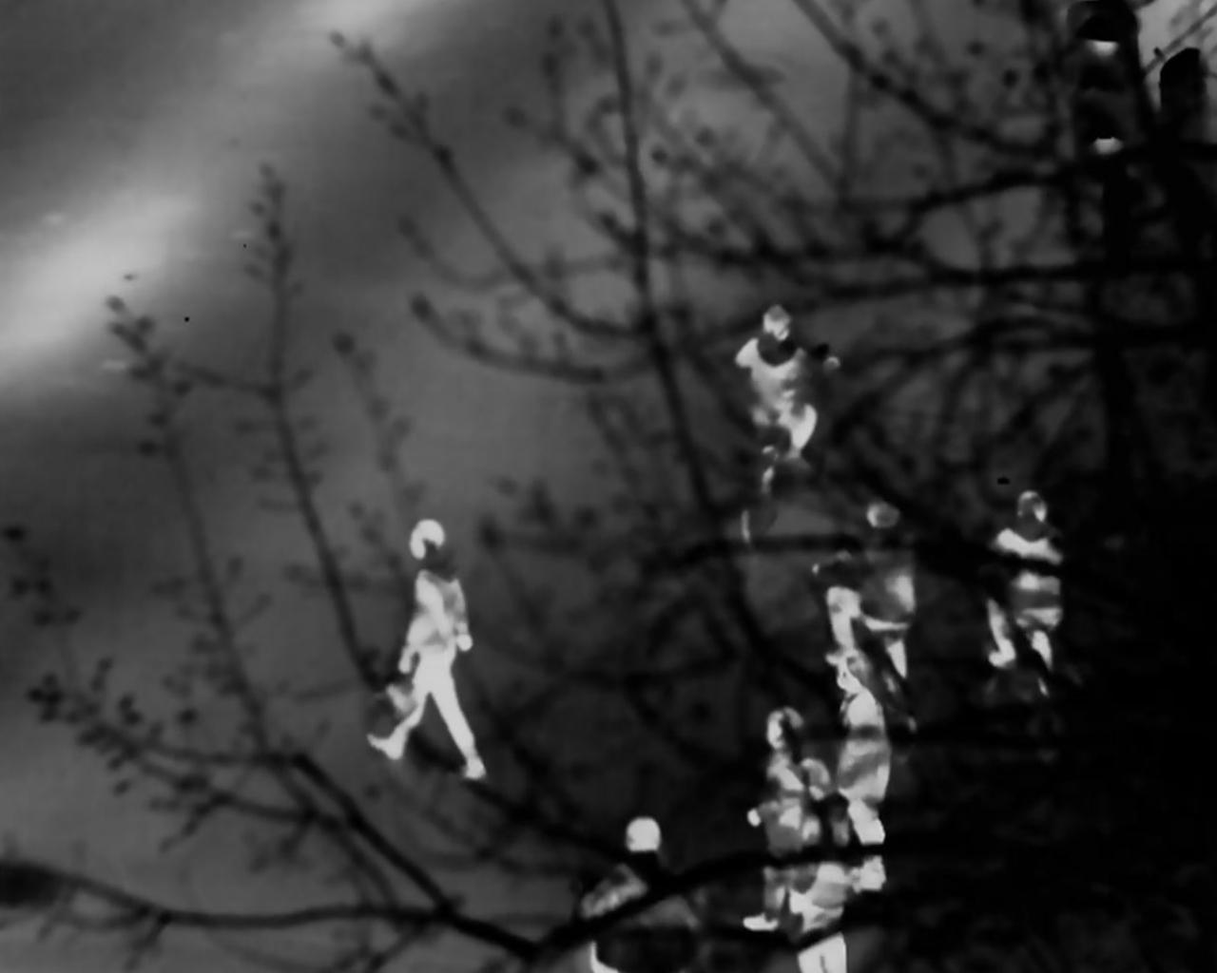person: (353, 505, 484, 791), (980, 494, 1091, 692), (758, 707, 838, 959), (823, 495, 913, 713), (582, 816, 705, 961), (740, 306, 823, 511), (833, 665, 902, 875)
